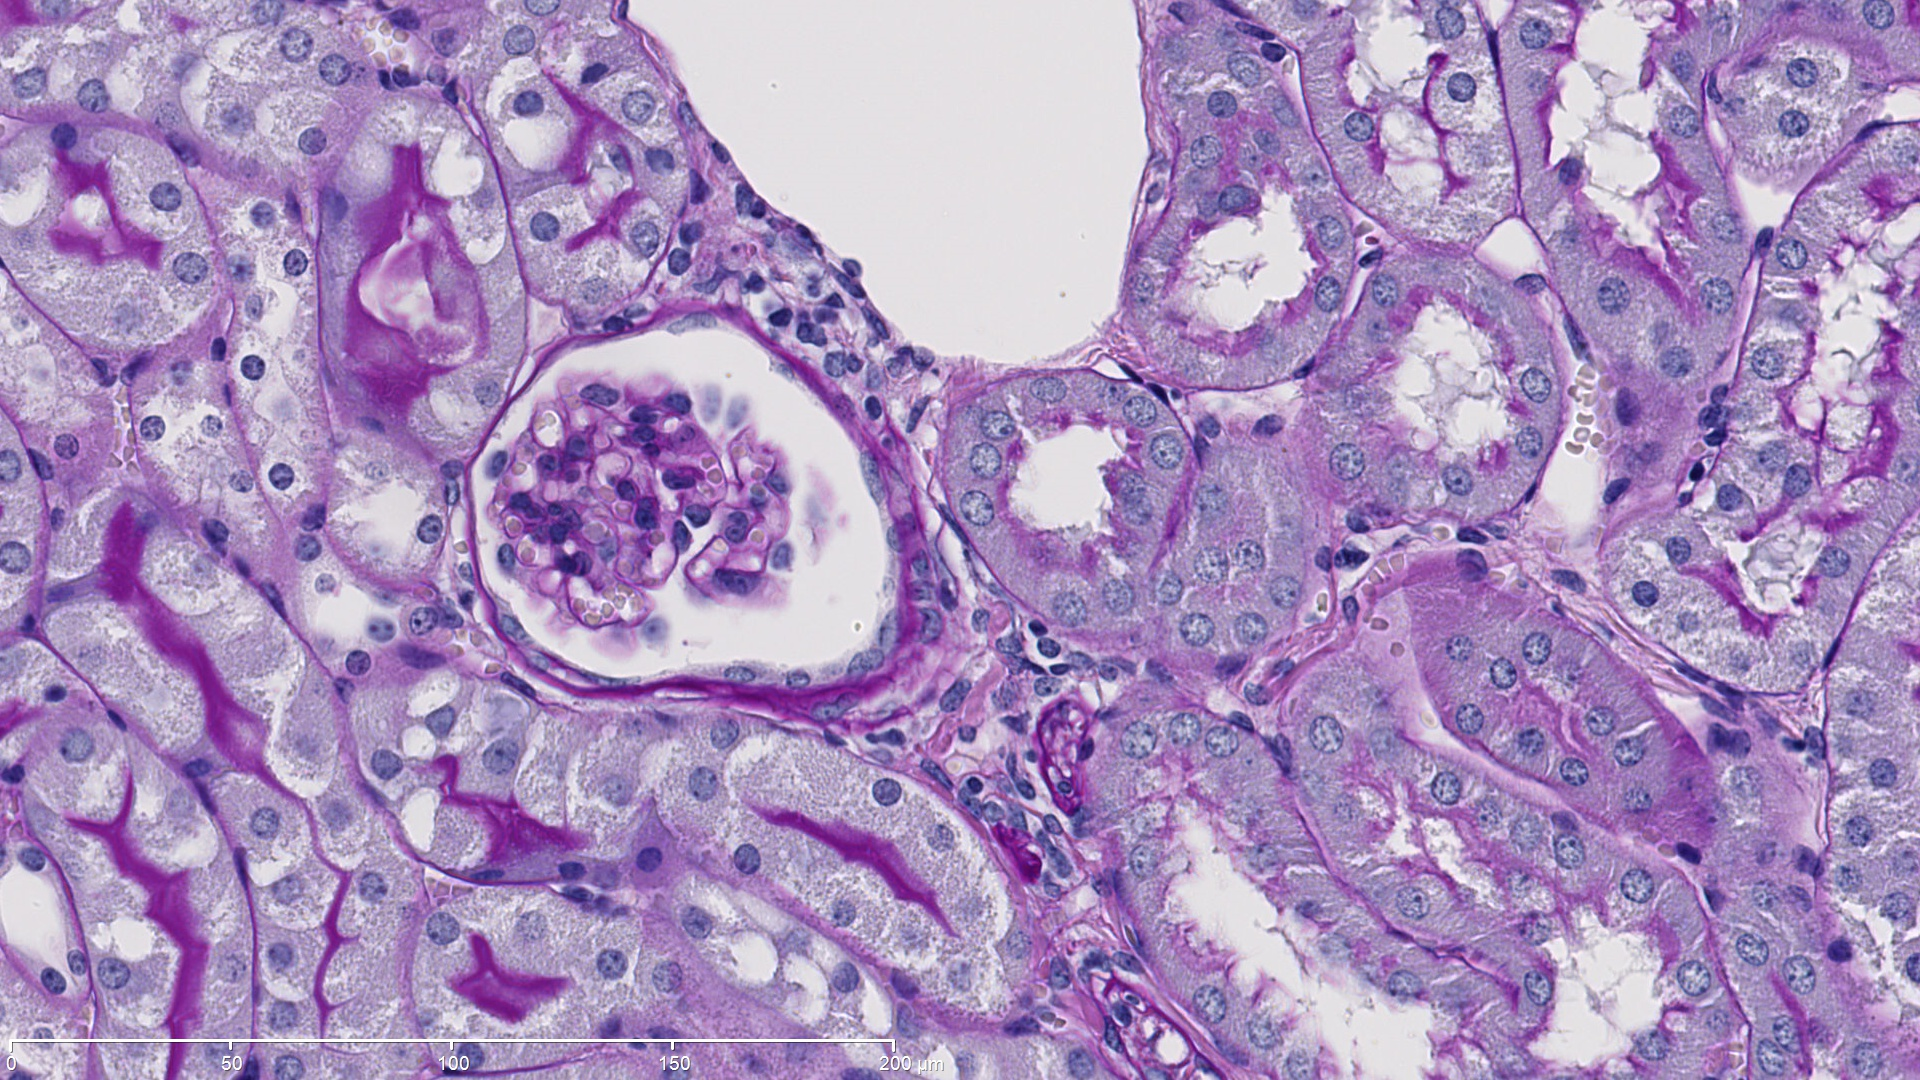Glomeruli: (469, 301, 874, 680)
